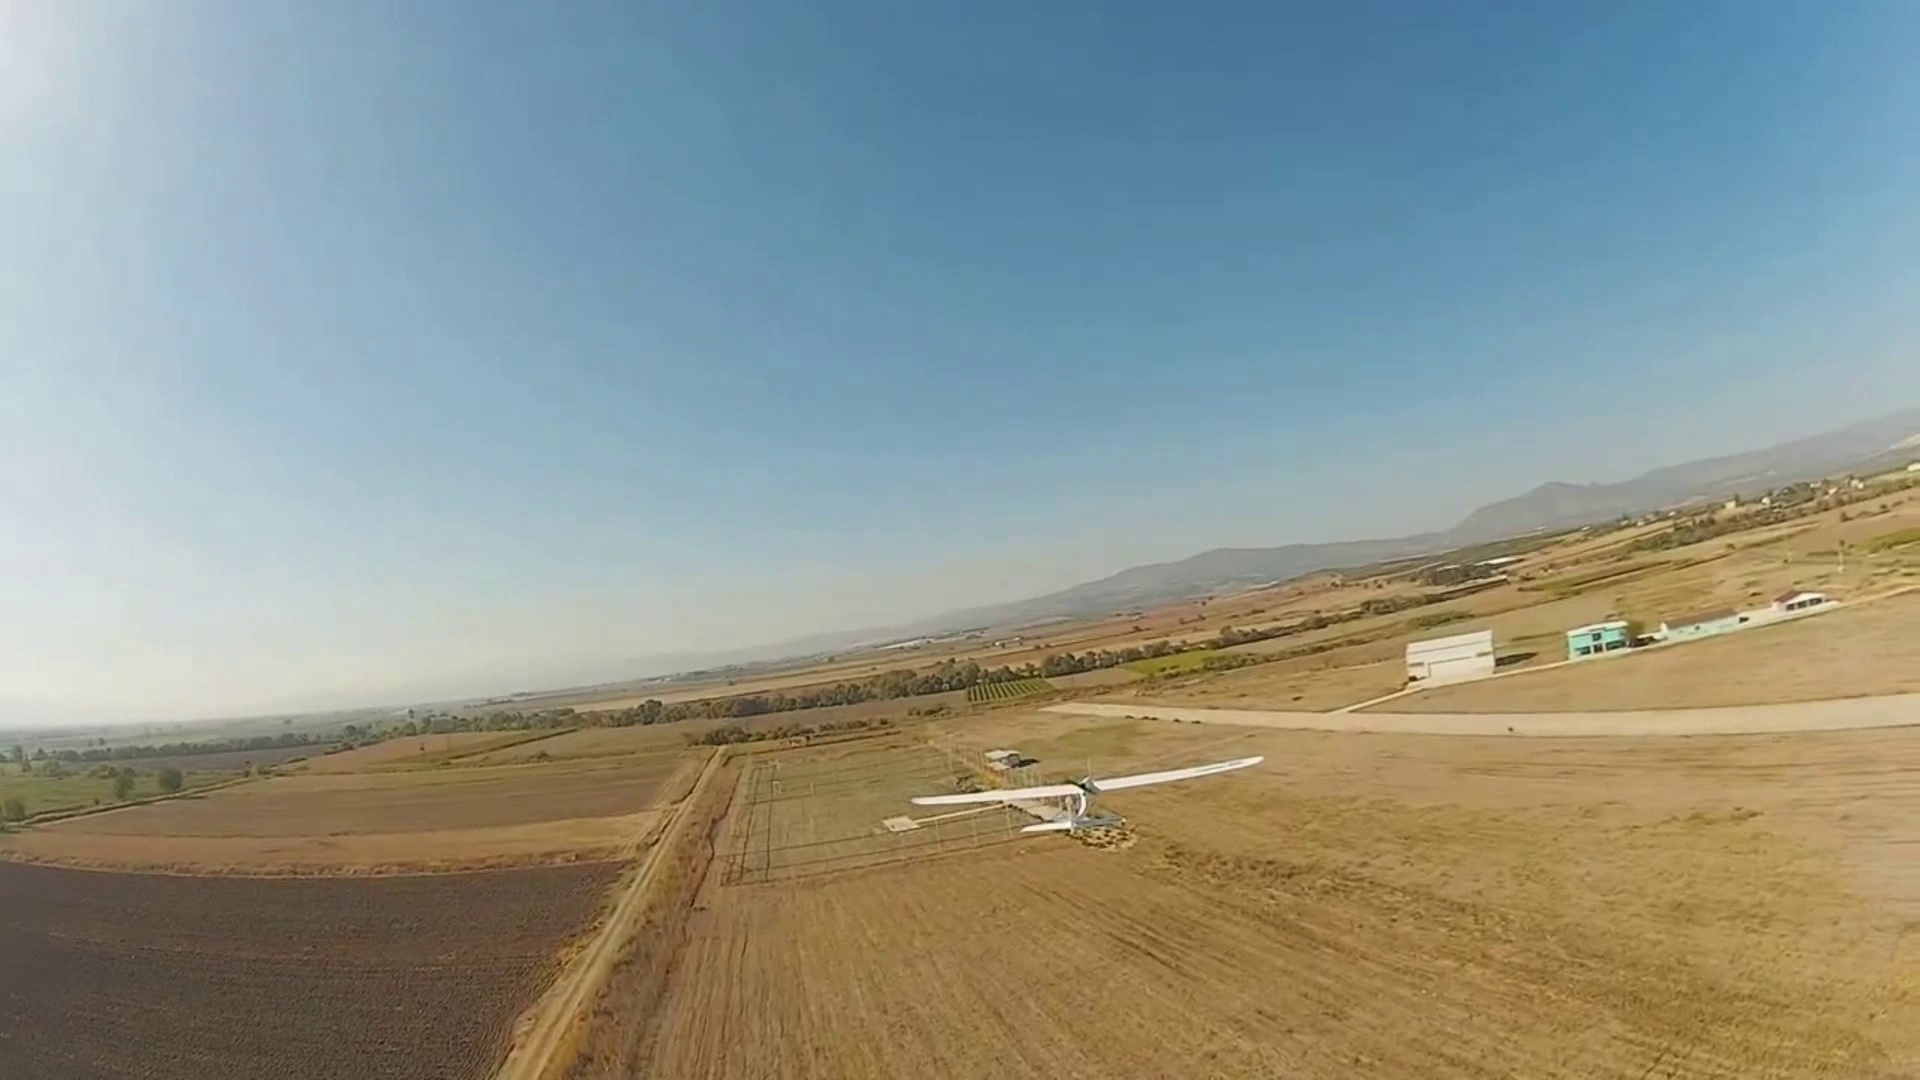airplane: (908, 751, 1265, 844)
